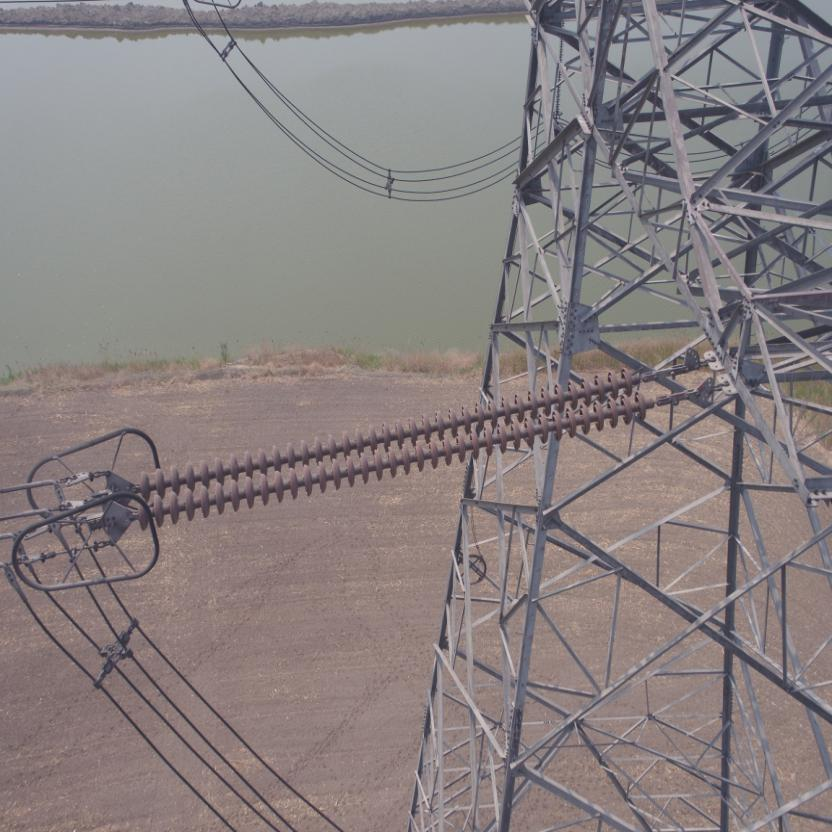insulator: (130, 363, 680, 530)
